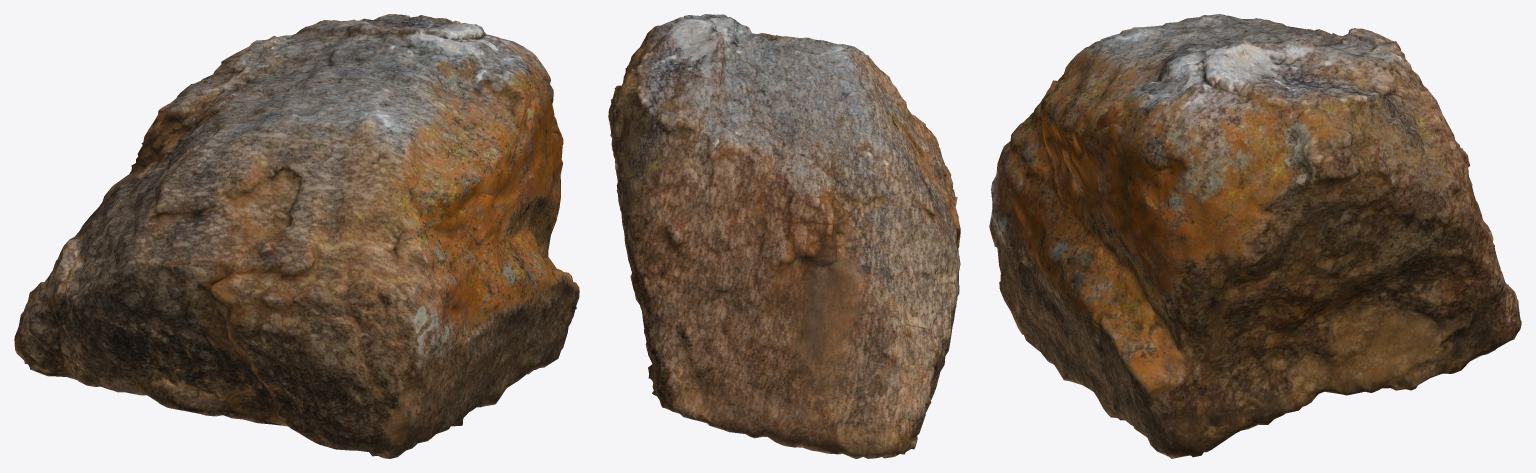
The model's file is namaqualand_boulder_04.glb.
3 renders of one model, left to right at view 1: azimuth 30°, elevation 25°; view 2: azimuth 150°, elevation 25°; view 3: azimuth 270°, elevation 25°, orthographic. The views are drawn at different scales.
Visible parts, largest first — view 1: boulder_04; view 2: boulder_04; view 3: boulder_04.
Boxes of the visible parts, x1=… form: boulder_04: x1=14, y1=14, x2=579, y2=458; boulder_04: x1=608, y1=14, x2=960, y2=458; boulder_04: x1=989, y1=14, x2=1521, y2=458.
Bounding box in the file's own units: 2.52 × 1.9 × 2.5.
1 material, 1 textured.
